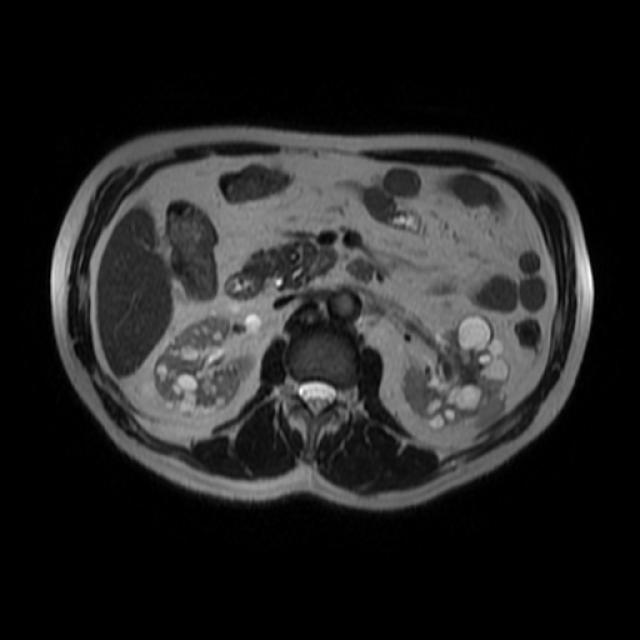sag: (153, 315, 259, 418)
sol: (403, 315, 510, 430)
